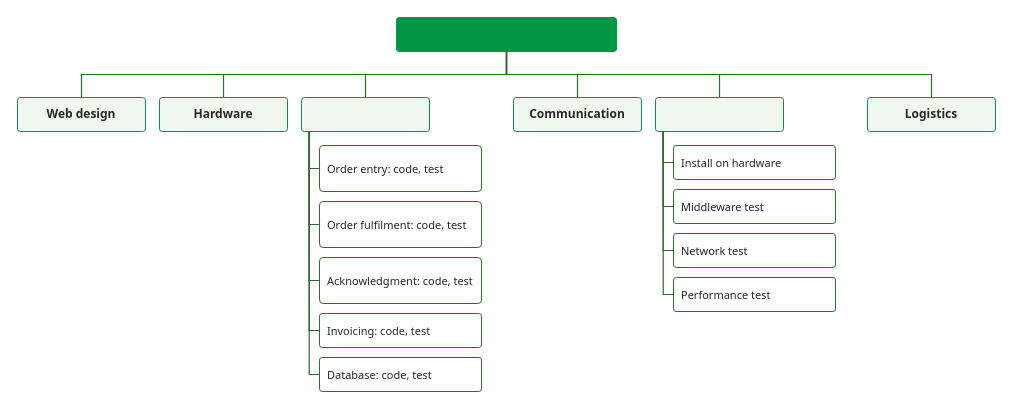
This 1013x409 diagram has some shape labels left out. Here are the shapes that lost their labels. From the top down, the centre of each, then its label:
At (506,34): "Internal e-commerce site".
At (365,114): "Software".
At (719,114): "Integration".
